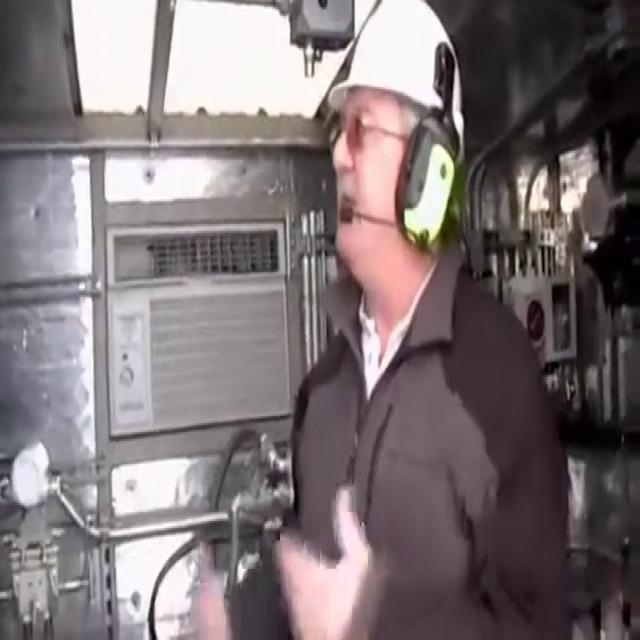earmuff: (392, 105, 458, 259)
glasses: (324, 109, 411, 164)
helmet: (325, 0, 469, 163)
